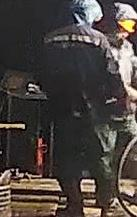helmet: (117, 18, 137, 33)
vest: (42, 27, 114, 132)
